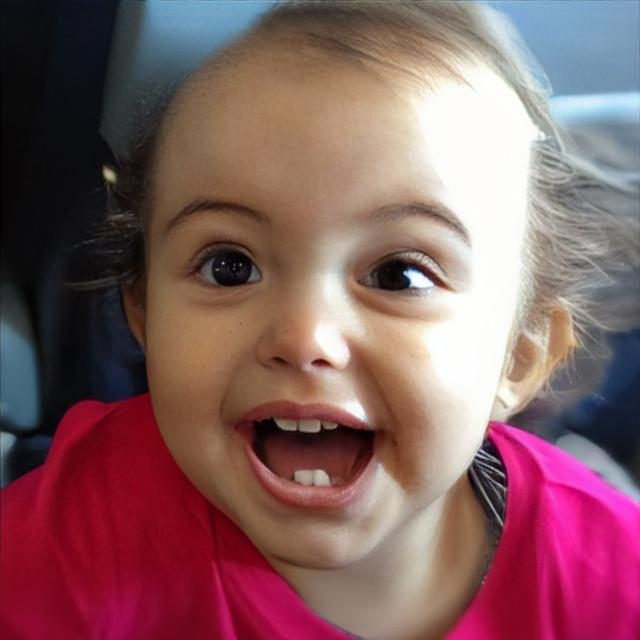surprise: (142, 9, 534, 570)
